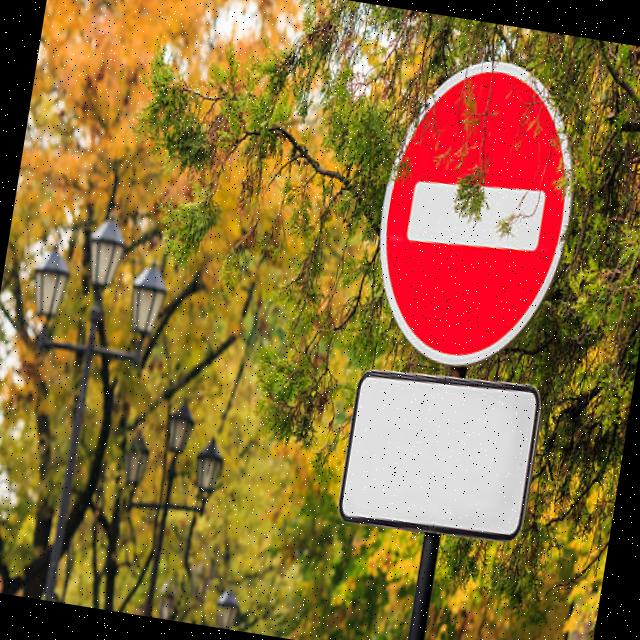do_not_enter: (354, 38, 592, 388)
